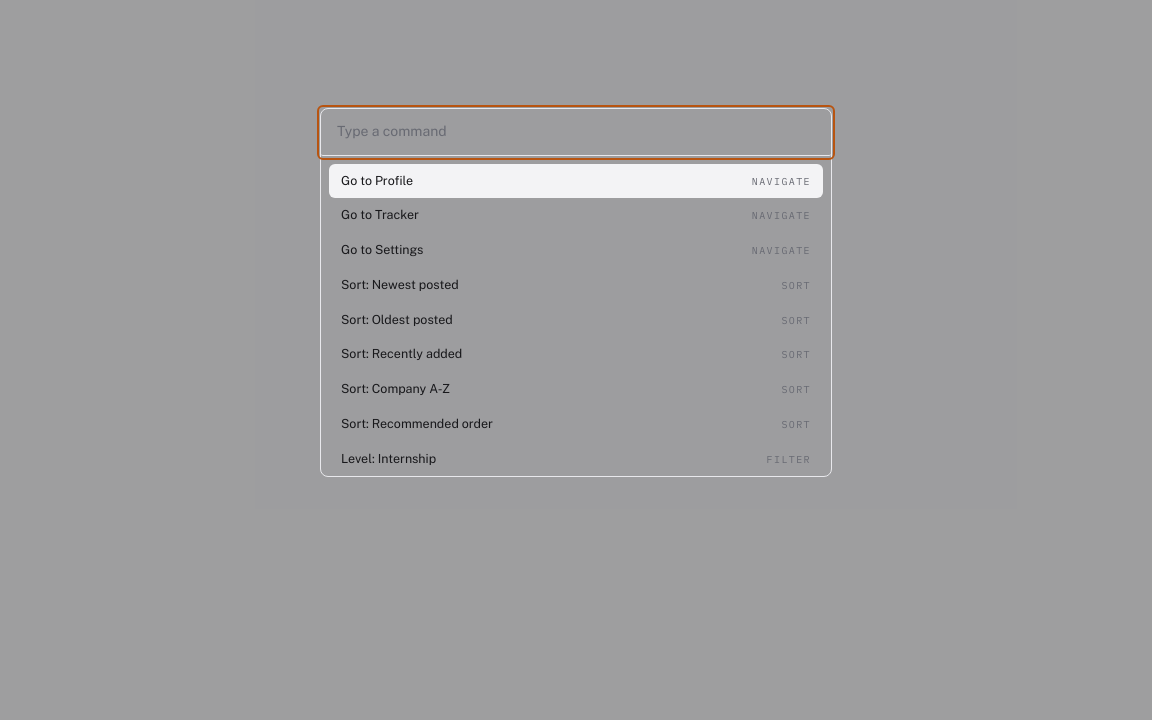
Test: CommandPalette commands › shows a message when nothing matches
Type "zzzzzz" into the field labelled "Type a command".
click(576, 132); type("zzzzzz")  # box [321,109,831,156]
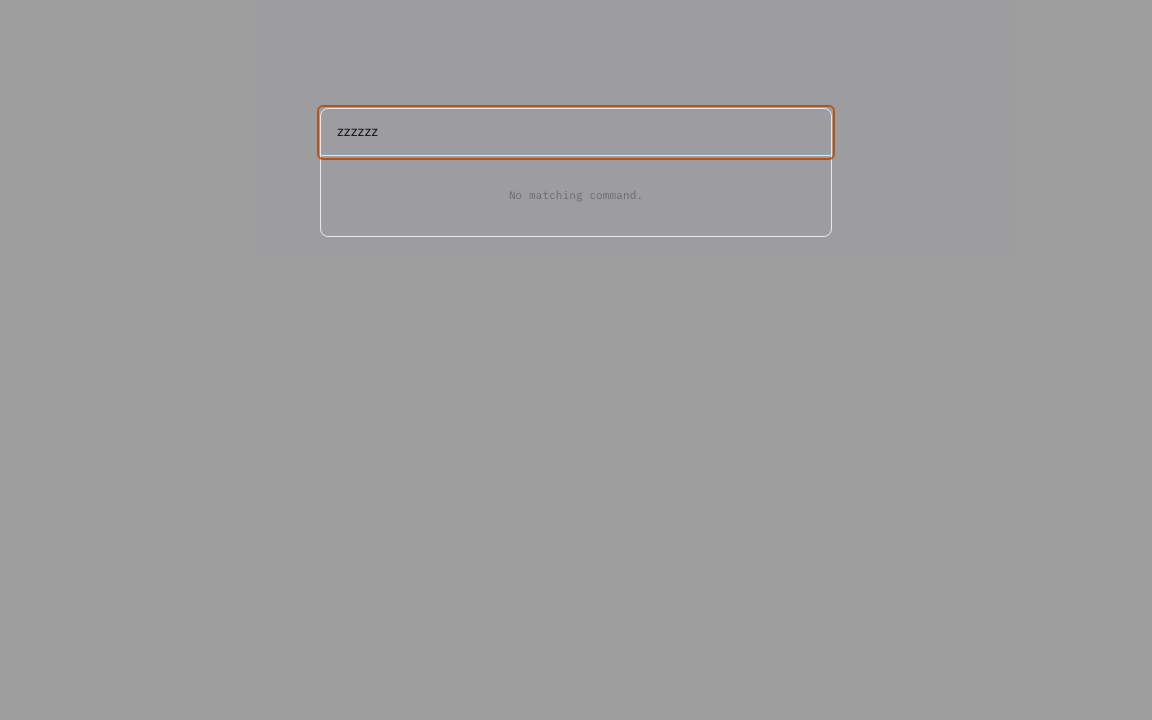
Result: the list item "No matching command." is shown at [509,188,643,202]
